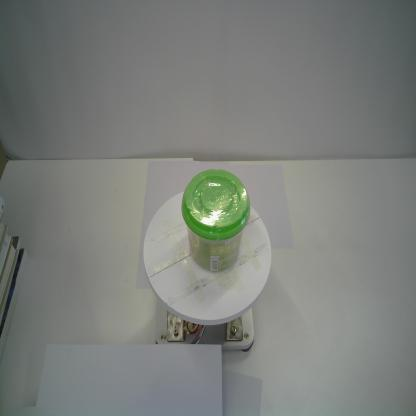Instant Drink: (181, 167, 251, 273)
